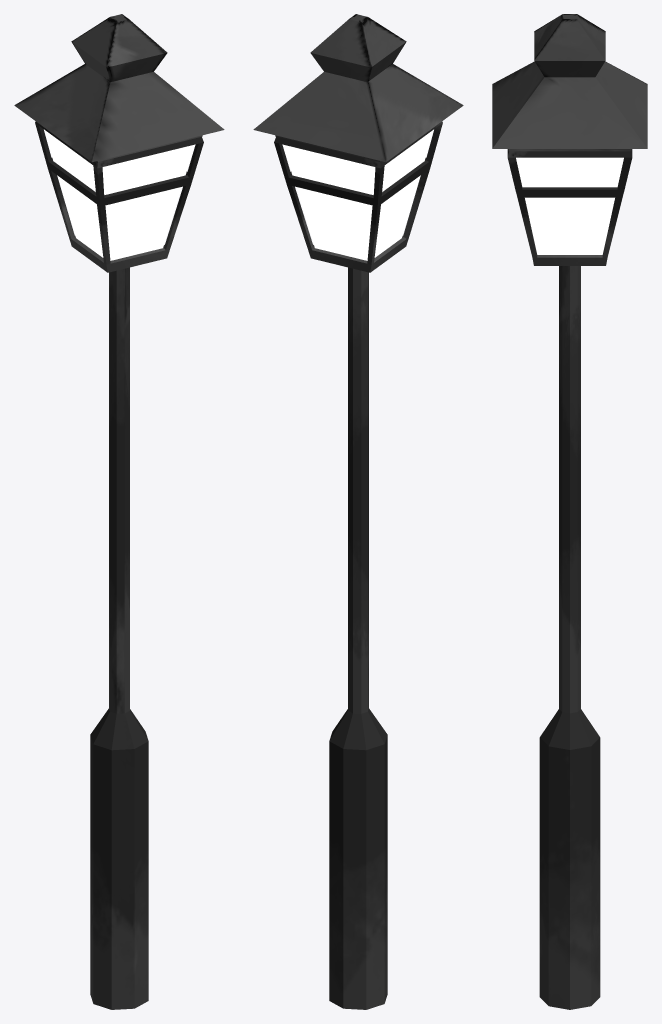
Rendered from streetlamp_4.glb.
3 views of the same model, side by side, from view 1: azimuth 30°, elevation 25°; view 2: azimuth 150°, elevation 25°; view 3: azimuth 270°, elevation 25° (orthographic).
Visible parts, largest first — view 1: Street Lamp 4, Light 4; view 2: Street Lamp 4, Light 4; view 3: Street Lamp 4, Light 4.
Part boxes in pixels (bbox=[...]): Street Lamp 4: bbox=[14, 14, 224, 1009]; Light 4: bbox=[44, 129, 194, 260]; Street Lamp 4: bbox=[253, 14, 463, 1009]; Light 4: bbox=[283, 129, 433, 260]; Street Lamp 4: bbox=[492, 14, 647, 1009]; Light 4: bbox=[516, 157, 623, 254].
Bounding box in the file's own units: 1.76 × 12.39 × 1.78.
2 materials, 1 textured.
